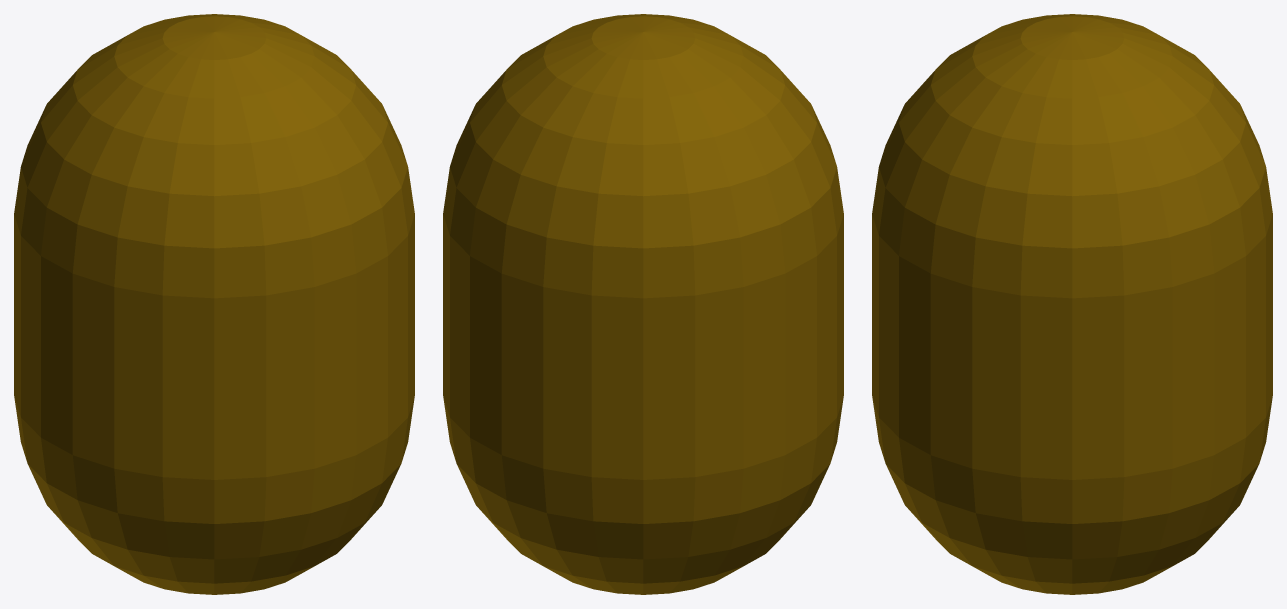
File: BuildingThree.fbx
3 renders of one model, left to right at view 1: azimuth 30°, elevation 25°; view 2: azimuth 150°, elevation 25°; view 3: azimuth 270°, elevation 25°, orthographic.
Parts seen in each view (by area): view 1: Empty_Mesh; view 2: Empty_Mesh; view 3: Empty_Mesh.
Part boxes in pixels (x1,y1,x2,y2): Empty_Mesh: (14,14,414,594); Empty_Mesh: (443,14,843,594); Empty_Mesh: (872,14,1272,594).
Size of the model in its own units: 800 by 1200 by 800.
